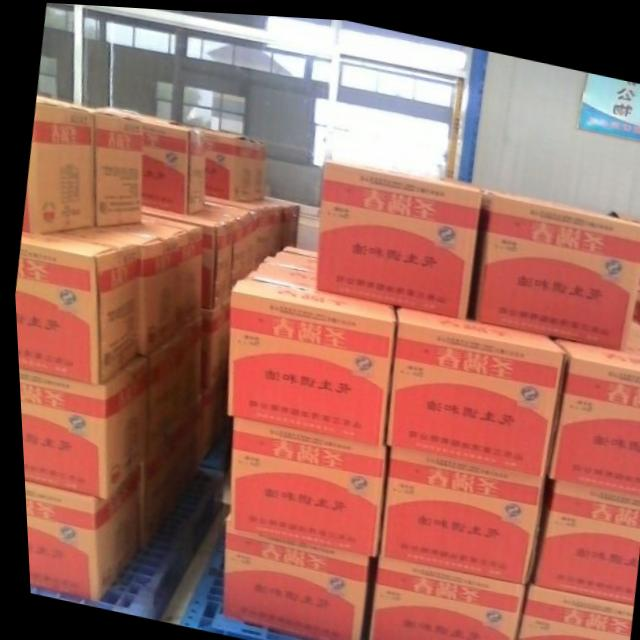box: (381, 302, 562, 472), (222, 265, 390, 442), (470, 185, 640, 343), (313, 157, 480, 313), (374, 444, 539, 579), (222, 416, 381, 554), (12, 229, 137, 385), (15, 355, 144, 500), (81, 212, 202, 354), (216, 526, 366, 640), (543, 327, 640, 490), (20, 465, 136, 600), (527, 473, 639, 597), (362, 553, 520, 640), (89, 107, 202, 213), (19, 95, 92, 239), (137, 203, 230, 308), (133, 415, 191, 552), (141, 316, 198, 453), (509, 579, 628, 640), (173, 120, 262, 198), (183, 197, 254, 291), (89, 111, 141, 227), (201, 192, 279, 261), (196, 293, 228, 390), (262, 193, 297, 244), (258, 245, 315, 268), (249, 258, 314, 278), (277, 243, 315, 255)
